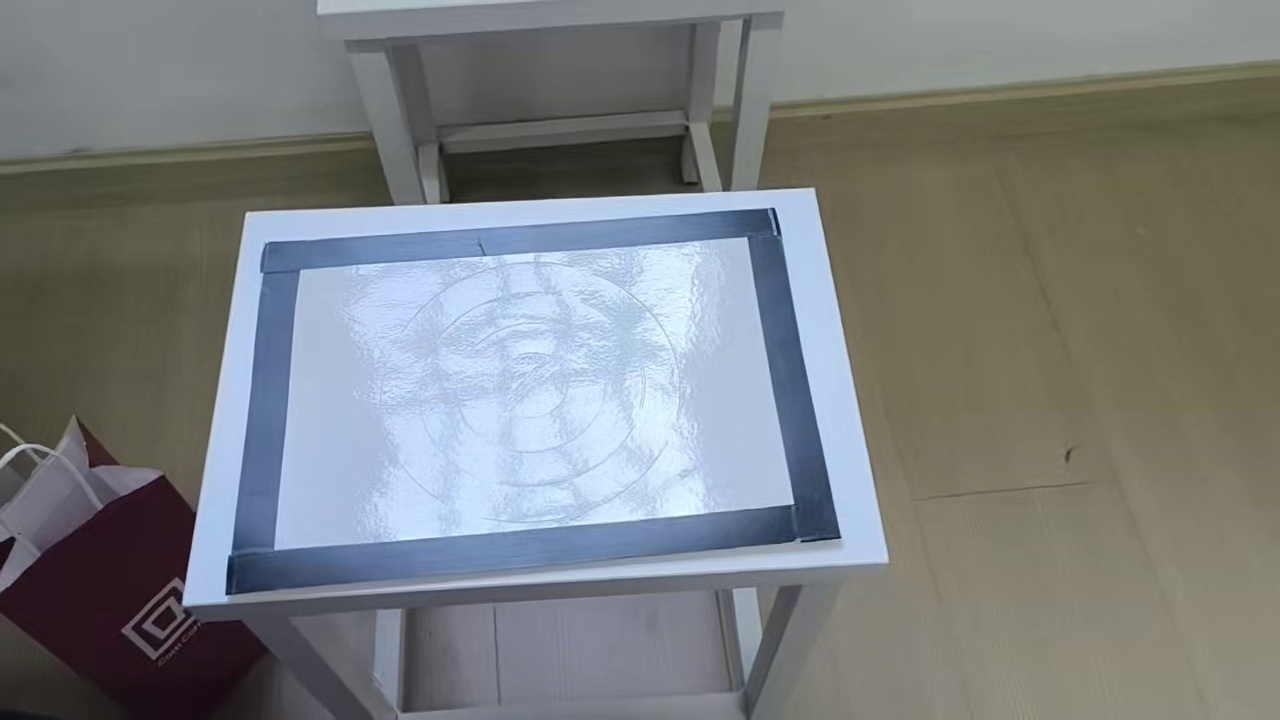board: (228, 207, 837, 594)
